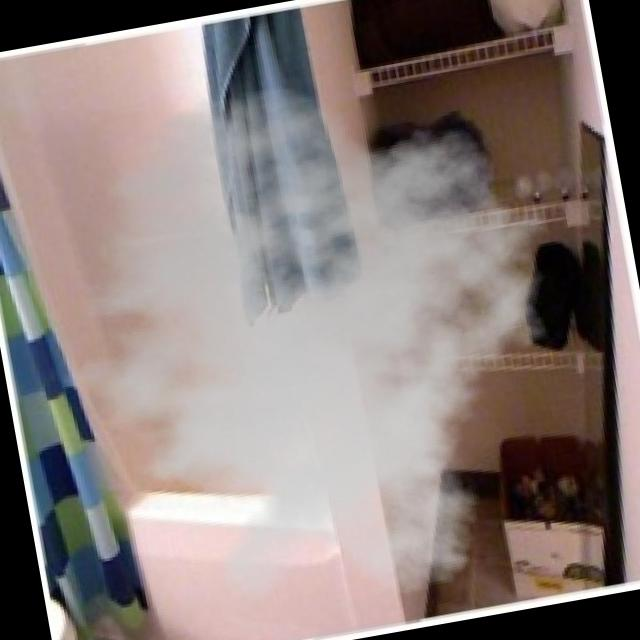Smoke: (0, 39, 621, 640)
